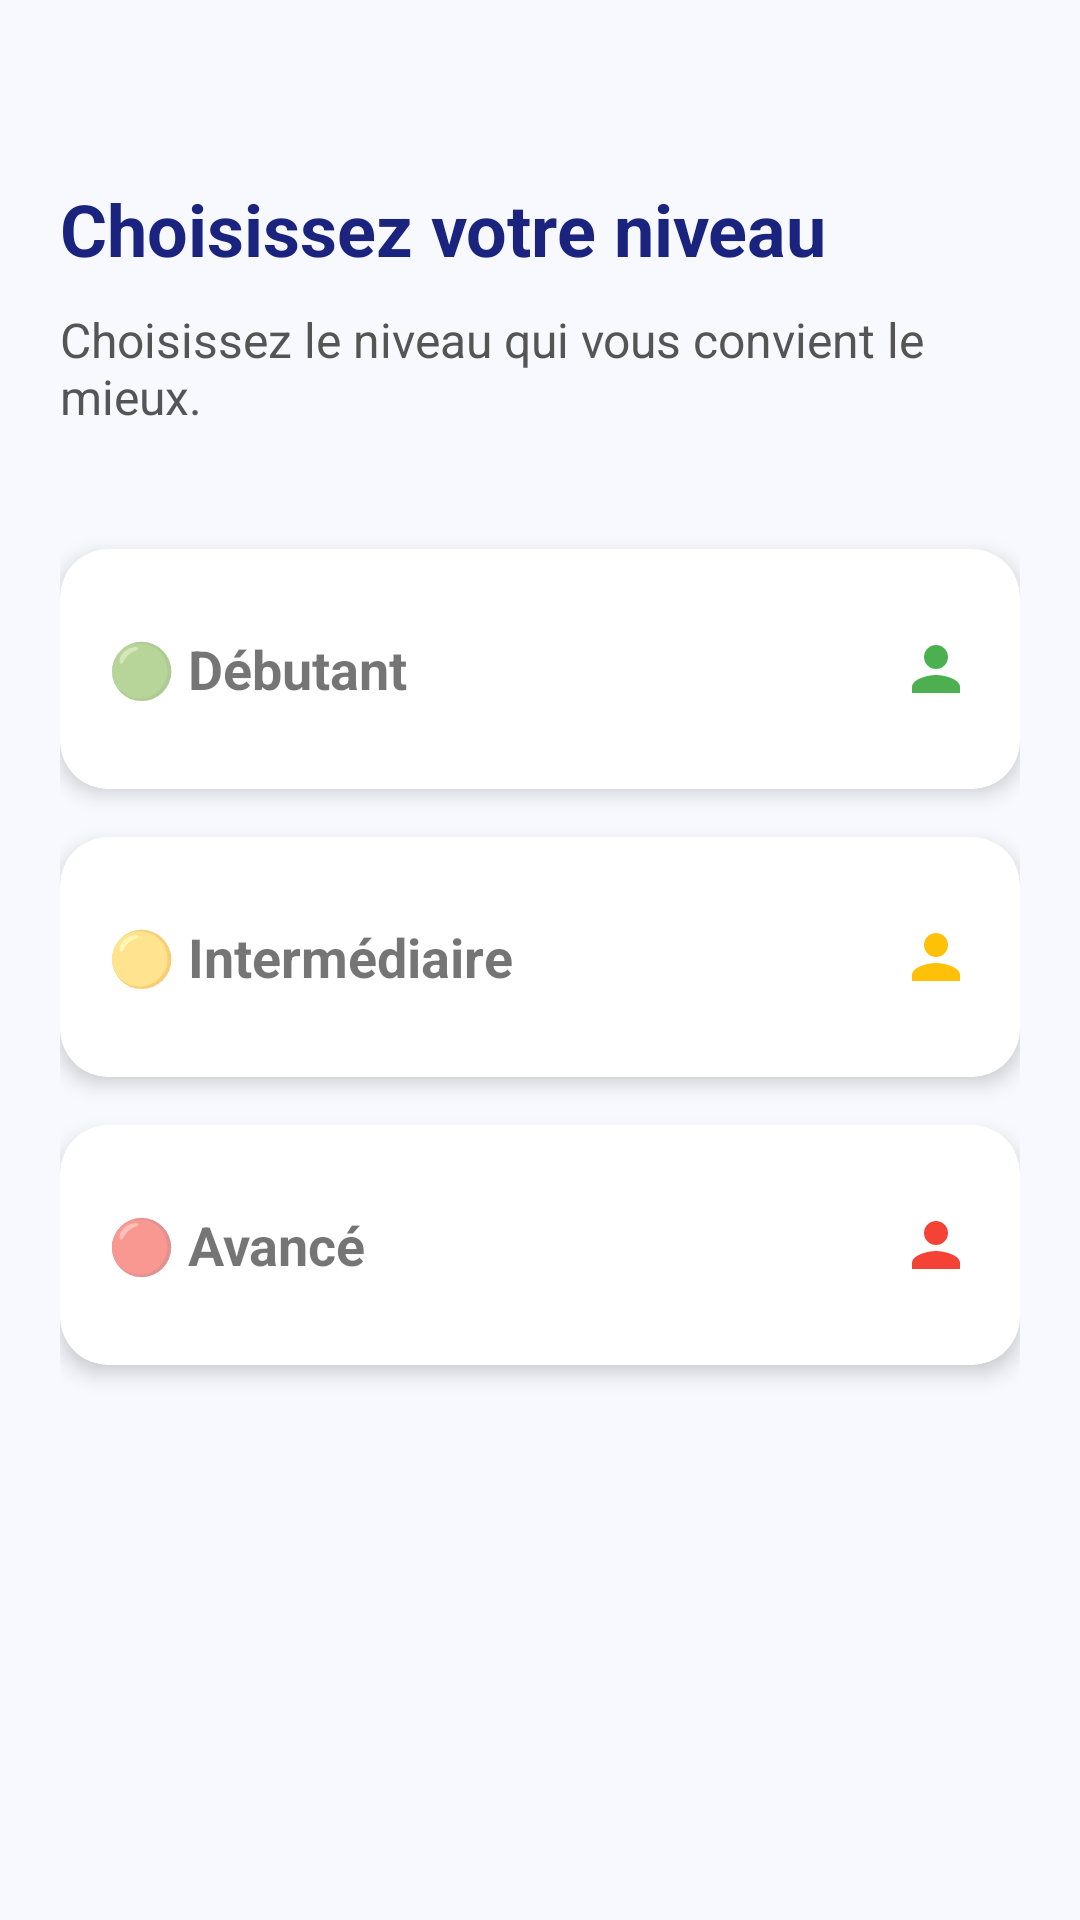

Icons on this 1080px x 1920px Android screen, each with the point to tap as point (x, y):
person: point (936, 669), point (936, 957), point (936, 1245)
